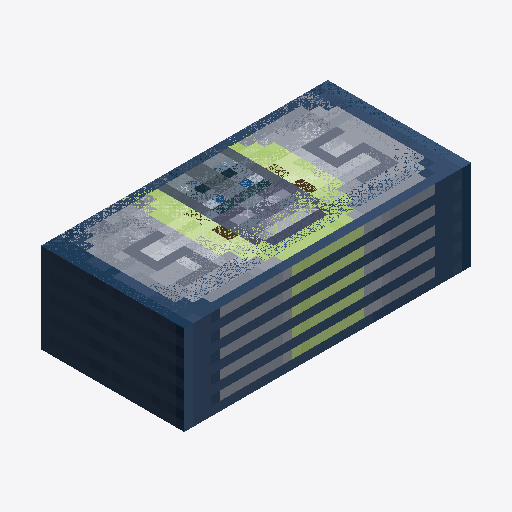
A Minecraft block model of 22 cuboids, rendered isometrically (azimuth 45°, elevation 35.3°) with the resource pack's own textures.
Visible parts, largest first — element 22, element 6, element 14, element 18, element 2, element 10, element 5, element 13, element 9, element 21, element 17.
Part boxes in pixels (x1,y1,x2,y2): element 22: (41,80,470,327); element 6: (184,225,470,410); element 14: (184,184,470,369); element 18: (184,163,470,348); element 2: (184,246,470,431); element 10: (184,205,470,389); element 5: (41,329,183,431); element 13: (41,287,183,389); element 9: (41,308,183,410); element 21: (41,246,183,348); element 17: (41,267,183,368).
Bounding box in the file's own units: 16 × 5 × 8.